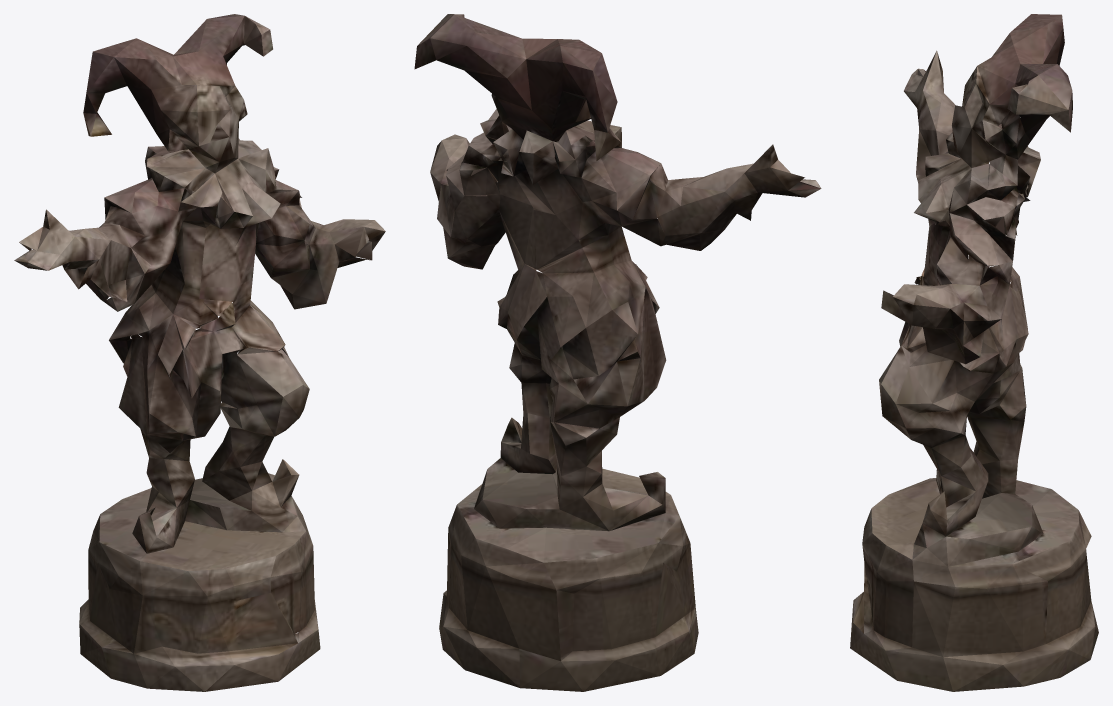
Rendered from park_jester_statue_1117.glb.
3 views of the same model, side by side, from view 1: azimuth 30°, elevation 25°; view 2: azimuth 150°, elevation 25°; view 3: azimuth 270°, elevation 25° (orthographic). The views are drawn at different scales.
Parts seen in each view (by area): view 1: world; view 2: world; view 3: world.
Boxes of the visible parts, left/top/right/bottom form: world: left=14, top=14, right=385, bottom=691; world: left=414, top=14, right=821, bottom=691; world: left=850, top=14, right=1098, bottom=691.
Bounding box in the file's own units: 0.6485 × 1 × 0.3737.
Materials: 1 (1 with a texture image).
